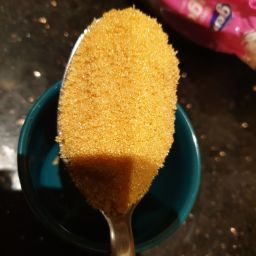Brown Sugar: (49, 4, 184, 218), (81, 42, 140, 187), (93, 35, 161, 148), (69, 90, 173, 135), (62, 138, 157, 170)
